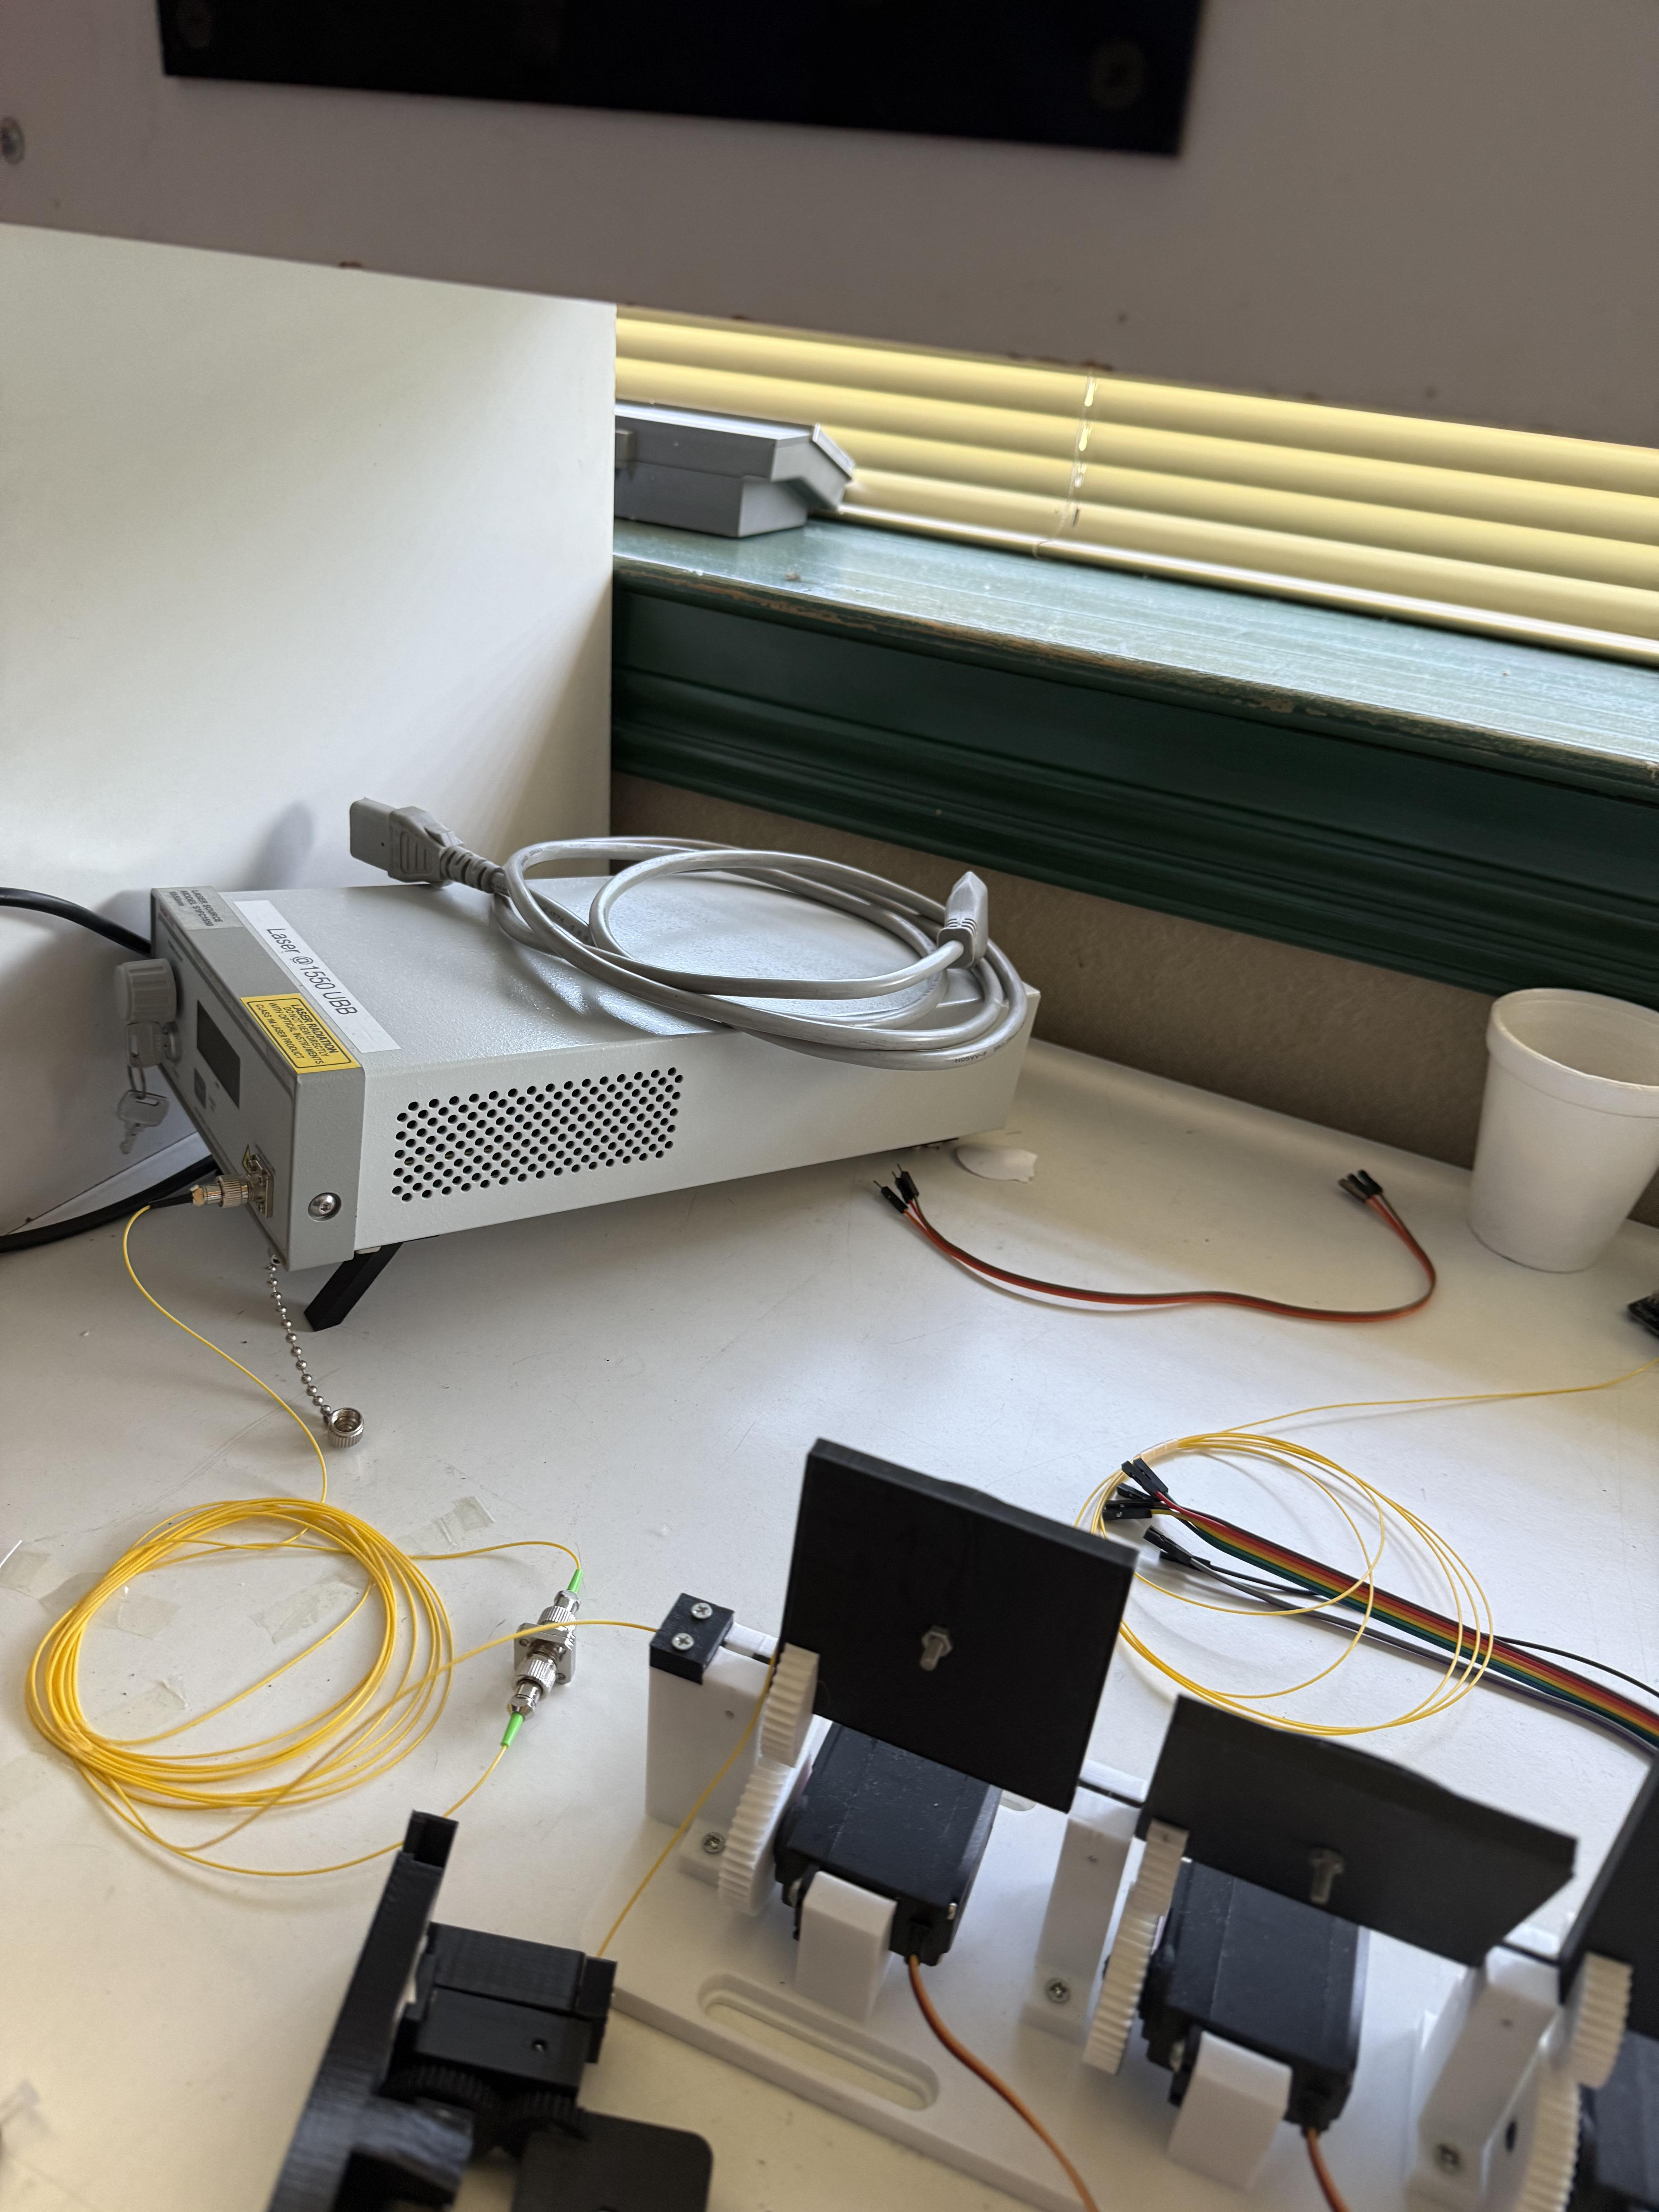laser: (77, 782, 1134, 1402)
paddle_polarization_controller: (535, 1402, 1659, 2212)
